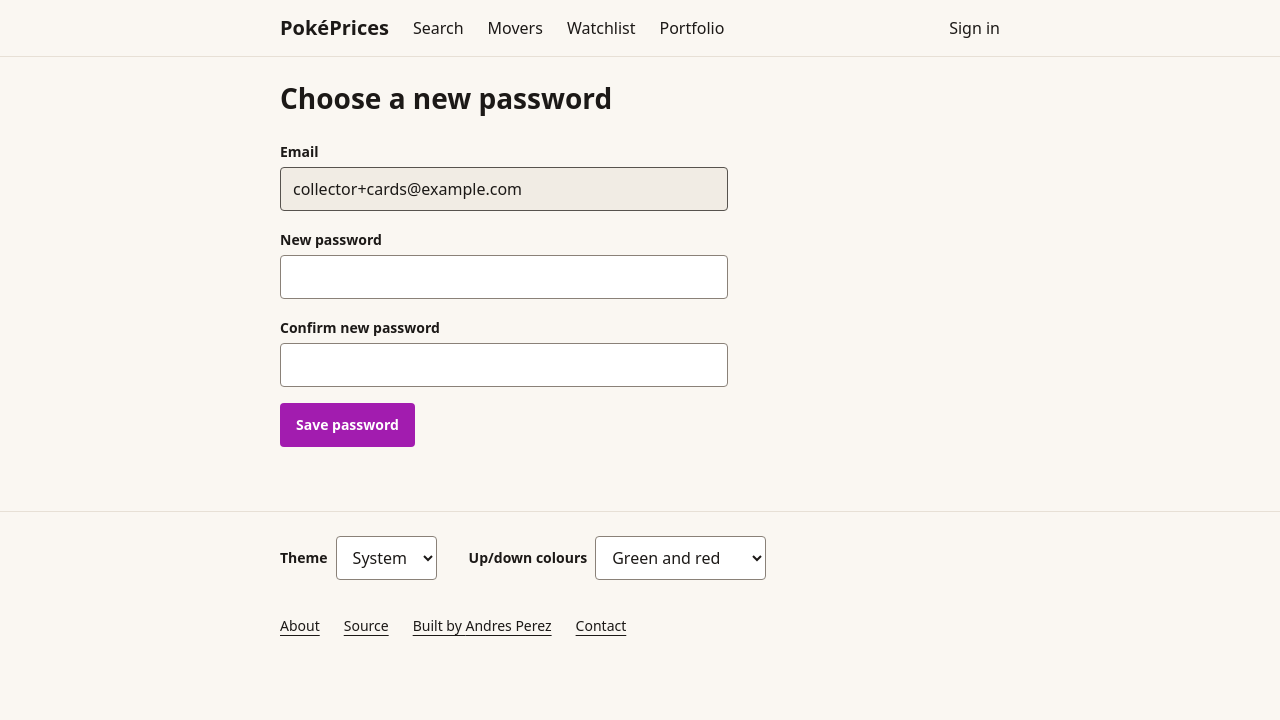
it: the reset-password page (T03 criterion 3, D10) › shows a 422 under New password and clears both password fields
The width and height of the screenshot is (1280, 720).
Type "fake-password-0000-ok" into the password field labelled "New password".
click(504, 277); type("fake-password-0000-ok")  # box [280,255,728,299]
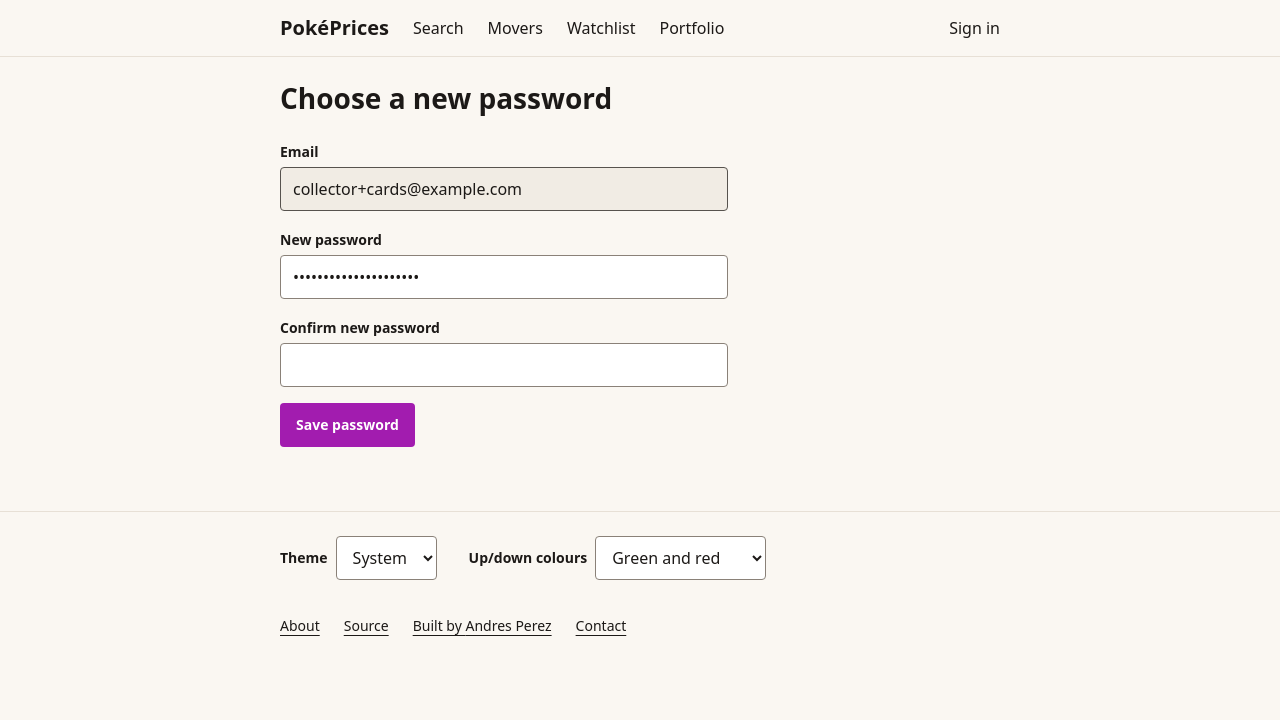
Type "fake-password-0000-ok" into the password field labelled "Confirm new password".
click(504, 365); type("fake-password-0000-ok")  # box [280,343,728,387]
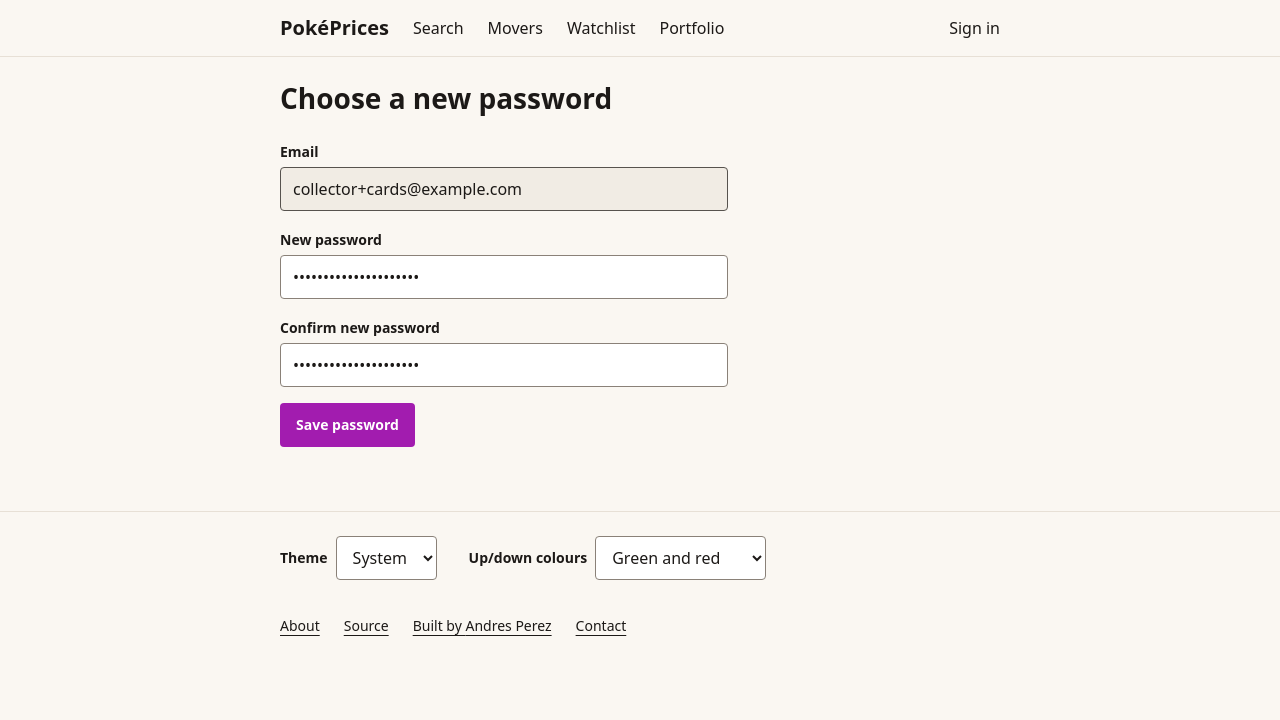
Click the button "Save password".
click(347, 425)  # box [280,403,415,447]
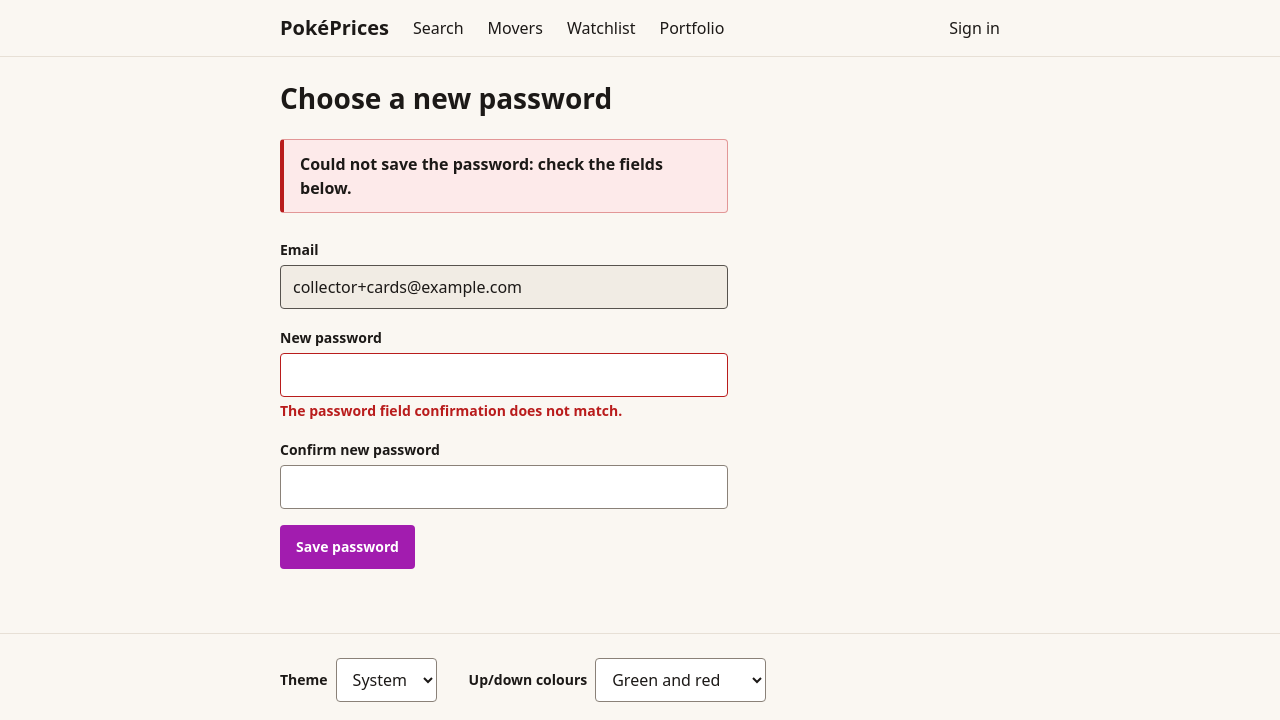
Expected: the password field labelled "Confirm new password" is empty, [280,465,728,509]
Expected: the message reads "Could not save the password: check the fields below.", [300,153,663,199]
Expected: the password field labelled "New password" is empty, [280,353,728,397]
